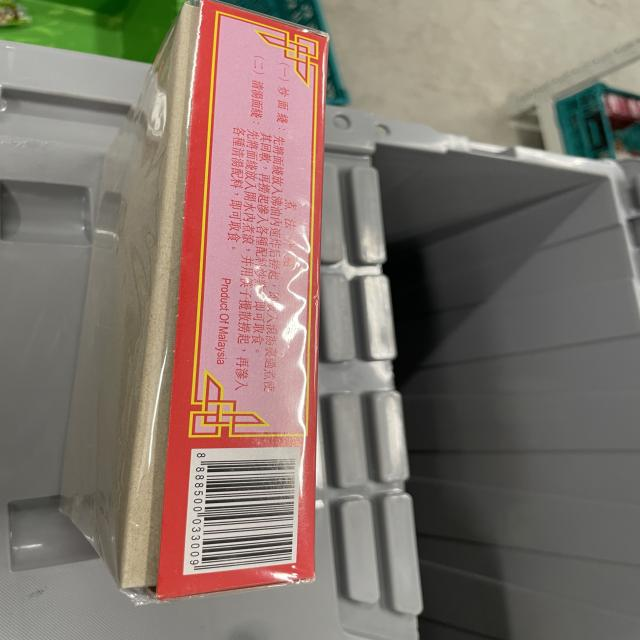object_name: (83, 13, 312, 590)
